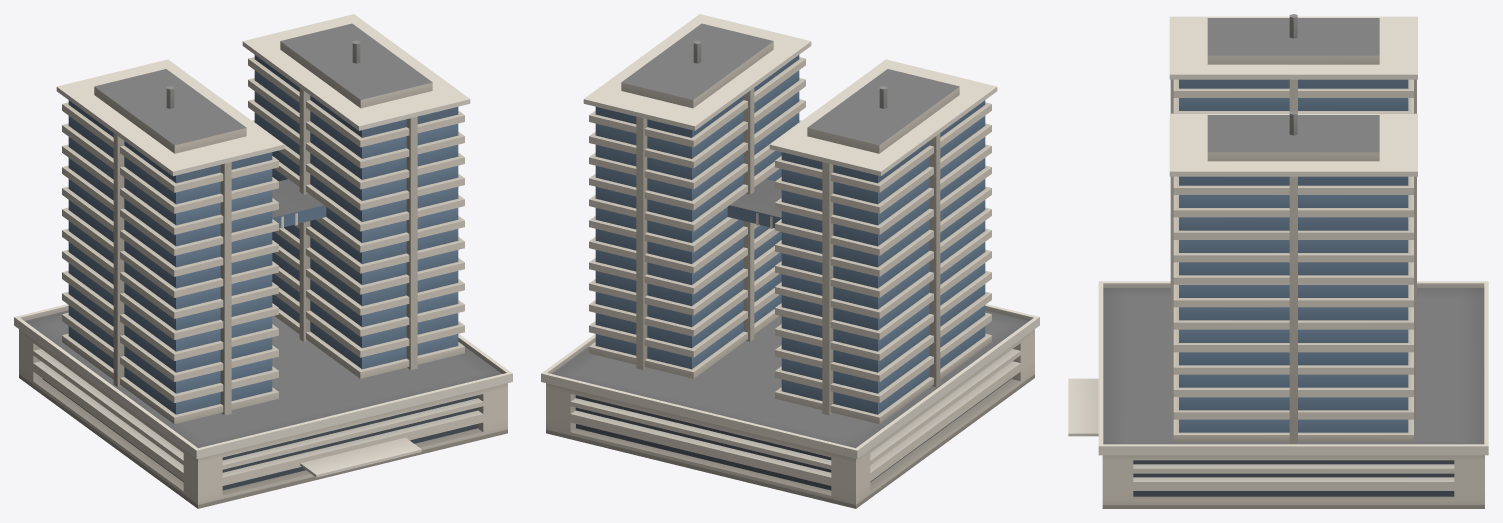
Rendered from building-tower-twin.glb.
3 renders of one model, left to right at view 1: azimuth 30°, elevation 25°; view 2: azimuth 150°, elevation 25°; view 3: azimuth 270°, elevation 25°, orthographic. The views are drawn at different scales.
Visible parts, largest first — view 1: Building; view 2: Building; view 3: Building.
Boxes of the visible parts, x1,y1,x2,y2 form: Building: [14, 14, 512, 508]; Building: [541, 14, 1039, 508]; Building: [1068, 14, 1488, 508].
Bounding box in the file's own units: 1.02 × 1.05 × 1.1.
